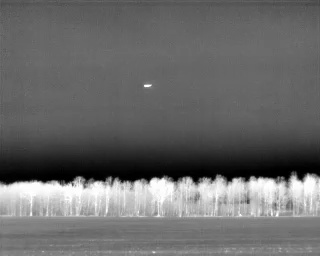DRONE: (141, 80, 154, 91)
